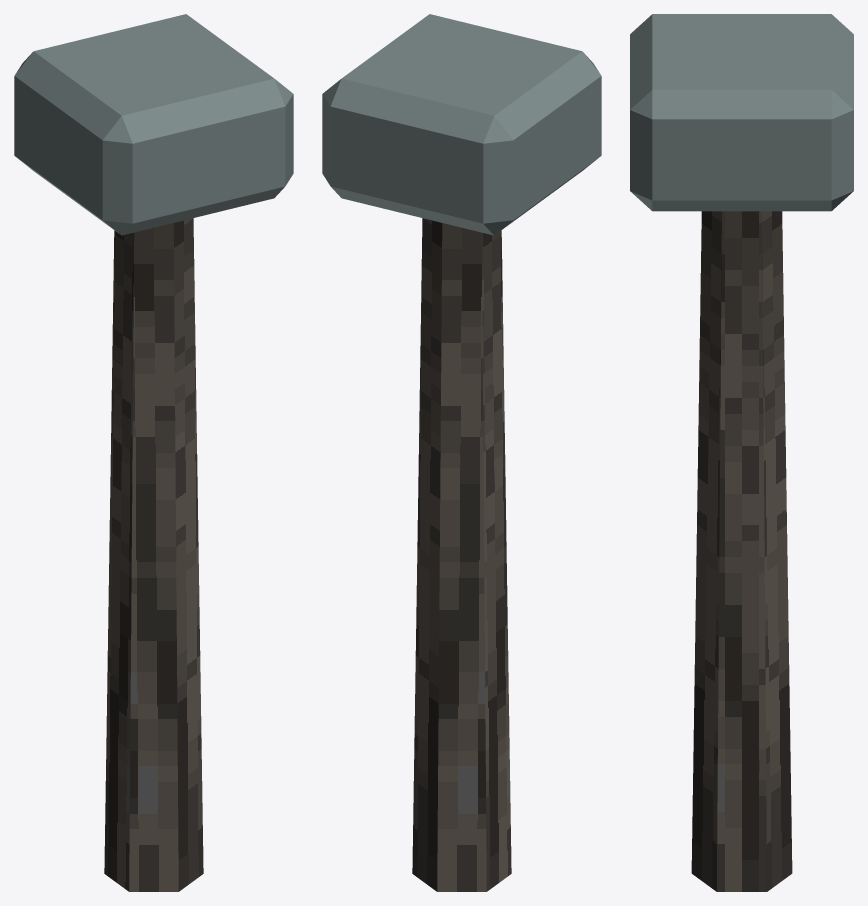
The model's file is enfeite_tocha.fbx.
3 renders of one model, left to right at view 1: azimuth 30°, elevation 25°; view 2: azimuth 150°, elevation 25°; view 3: azimuth 270°, elevation 25°, orthographic.
Visible parts, largest first — view 1: neve_enfeite_tocha; view 2: neve_enfeite_tocha; view 3: neve_enfeite_tocha.
Part boxes in pixels (x1,y1,x2,y2): neve_enfeite_tocha: (14, 14, 293, 891); neve_enfeite_tocha: (322, 14, 601, 891); neve_enfeite_tocha: (630, 14, 853, 891).
Bounding box in the file's own units: 20 × 81 × 20.
2 materials, 1 textured.
